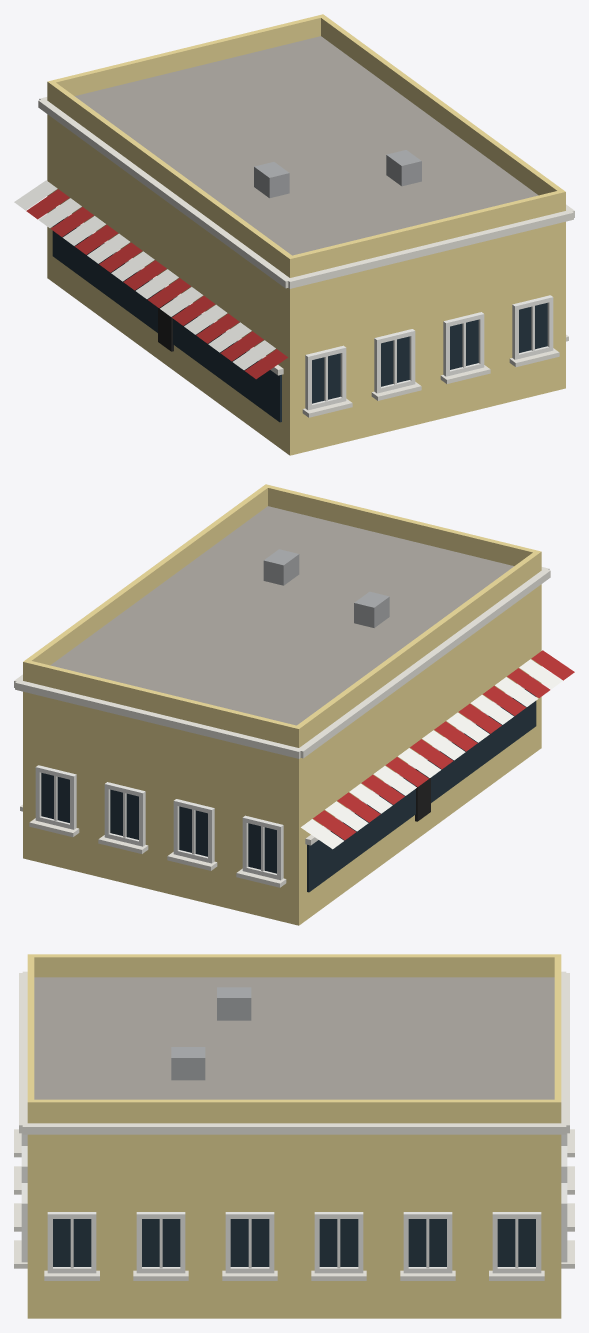
The picture shows the model from 3 angles, top to bottom: view 1: azimuth 30°, elevation 25°; view 2: azimuth 150°, elevation 25°; view 3: azimuth 270°, elevation 25°; orthographic projection. The views are drawn at different scales.
Parts seen in each view (by area): view 1: b2292; view 2: b2292; view 3: b2292.
Part boxes in pixels (x1,y1,x2,y2): b2292: (14,14,574,455); b2292: (14,484,574,925); b2292: (14,954,574,1318).
Bounding box in the file's own units: 4767 × 2826 × 6575.
